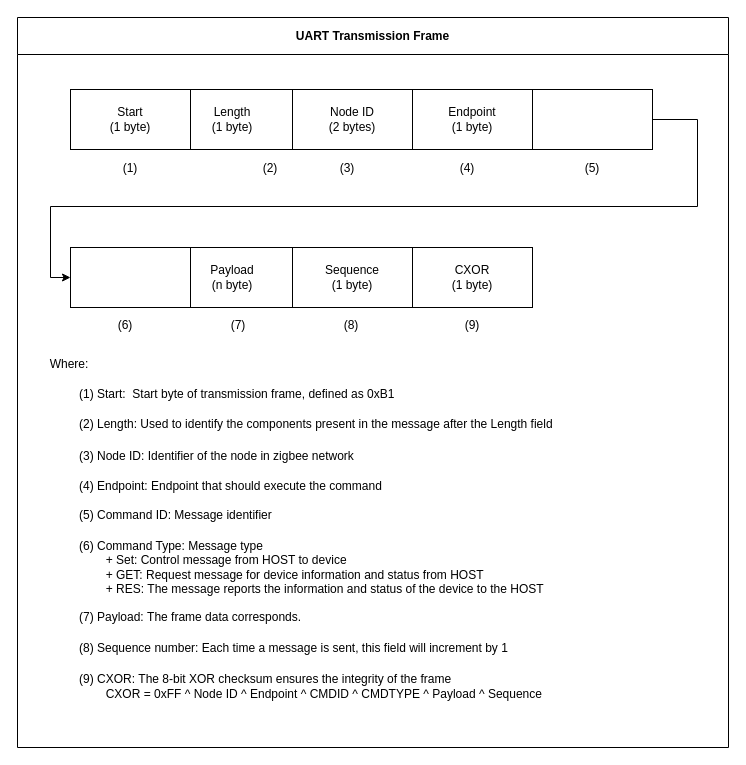
Some shapes in this 746 by 765 pixel diagram are drawn without their labels. The box of each missing label's shape, as (x1, y1, x2, y2) in pixels:
Command ID (1 byte): (532, 88, 652, 150)
Command Type (1 byte): (70, 246, 190, 308)
